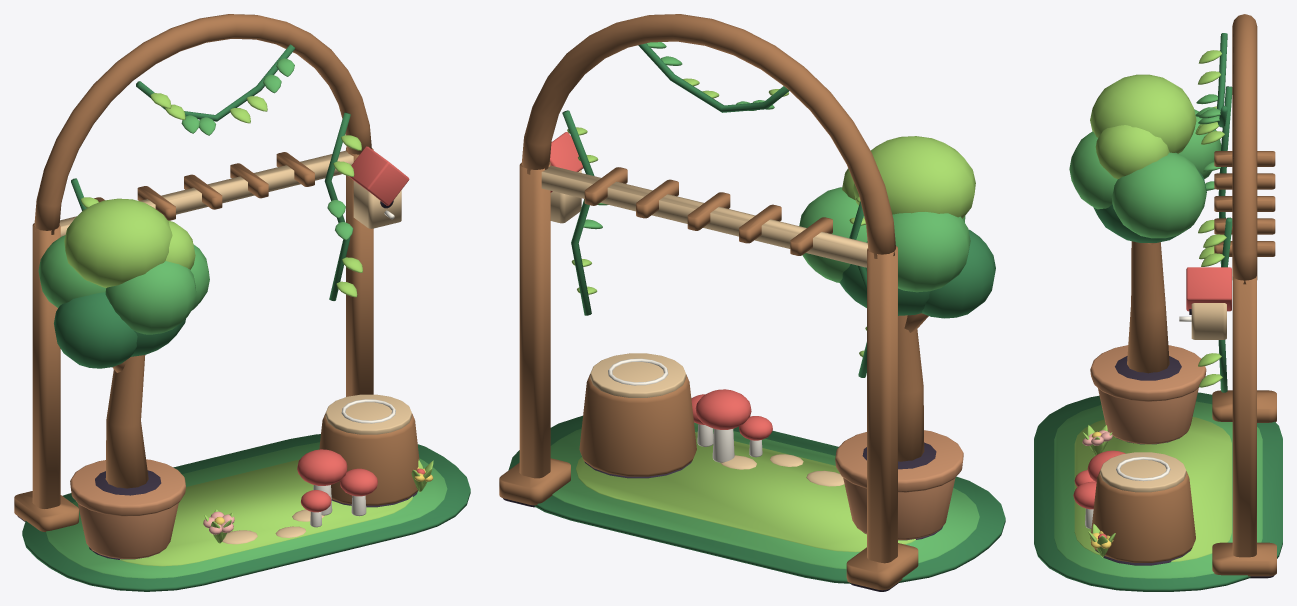
The model's file is forest.glb.
3 views of the same model, side by side, from view 1: azimuth 30°, elevation 25°; view 2: azimuth 150°, elevation 25°; view 3: azimuth 270°, elevation 25° (orthographic). The views are drawn at different scales.
Visible parts, largest first — view 1: ThemeForest_WoodPergolaAndStump, ThemeForest_GrassGreenCrownAndRug, ThemeForest_DeepGreenShadeAndVines, ThemeForest_LeafGreenFoliage, ThemeForest_WoodLightBirdhouse, ThemeForest_TerracottaPlanter, ThemeForest_CoralMushroomsAndRoof, ThemeForest_CreamMushroomStems, ThemeForest_SlatePads; view 2: ThemeForest_WoodPergolaAndStump, ThemeForest_GrassGreenCrownAndRug, ThemeForest_LeafGreenFoliage, ThemeForest_DeepGreenShadeAndVines, ThemeForest_WoodLightBirdhouse, ThemeForest_TerracottaPlanter, ThemeForest_CoralMushroomsAndRoof, ThemeForest_CreamMushroomStems, ThemeForest_SlatePads; view 3: ThemeForest_WoodPergolaAndStump, ThemeForest_GrassGreenCrownAndRug, ThemeForest_LeafGreenFoliage, ThemeForest_DeepGreenShadeAndVines, ThemeForest_TerracottaPlanter, ThemeForest_WoodLightBirdhouse, ThemeForest_CoralMushroomsAndRoof, ThemeForest_SlatePads, ThemeForest_CreamMushroomStems.
Part boxes in pixels (left/top/right/bottom): ThemeForest_WoodPergolaAndStump: left=14, top=14, right=419, bottom=531; ThemeForest_GrassGreenCrownAndRug: left=64, top=93, right=433, bottom=566; ThemeForest_DeepGreenShadeAndVines: left=22, top=44, right=470, bottom=591; ThemeForest_LeafGreenFoliage: left=38, top=58, right=447, bottom=578; ThemeForest_WoodLightBirdhouse: left=59, top=150, right=411, bottom=544; ThemeForest_TerracottaPlanter: left=70, top=459, right=185, bottom=558; ThemeForest_CoralMushroomsAndRoof: left=297, top=146, right=425, bottom=512; ThemeForest_CreamMushroomStems: left=310, top=210, right=395, bottom=527; ThemeForest_SlatePads: left=17, top=200, right=417, bottom=559; ThemeForest_WoodPergolaAndStump: left=499, top=14, right=928, bottom=590; ThemeForest_GrassGreenCrownAndRug: left=567, top=78, right=975, bottom=552; ThemeForest_LeafGreenFoliage: left=550, top=42, right=979, bottom=569; ThemeForest_DeepGreenShadeAndVines: left=508, top=43, right=1005, bottom=583; ThemeForest_WoodLightBirdhouse: left=541, top=165, right=867, bottom=486; ThemeForest_TerracottaPlanter: left=835, top=430, right=963, bottom=539; ThemeForest_CoralMushroomsAndRoof: left=550, top=132, right=772, bottom=440; ThemeForest_CreamMushroomStems: left=608, top=358, right=762, bottom=462; ThemeForest_SlatePads: left=503, top=442, right=942, bottom=591; ThemeForest_WoodPergolaAndStump: left=1091, top=14, right=1276, bottom=576; ThemeForest_GrassGreenCrownAndRug: left=1074, top=50, right=1231, bottom=561; ThemeForest_LeafGreenFoliage: left=1054, top=94, right=1262, bottom=578; ThemeForest_DeepGreenShadeAndVines: left=1034, top=33, right=1282, bottom=591; ThemeForest_TerracottaPlanter: left=1090, top=345, right=1206, bottom=444; ThemeForest_WoodLightBirdhouse: left=1100, top=303, right=1226, bottom=492; ThemeForest_CoralMushroomsAndRoof: left=1073, top=267, right=1231, bottom=538; ThemeForest_SlatePads: left=1095, top=309, right=1274, bottom=578; ThemeForest_CreamMushroomStems: left=1085, top=316, right=1191, bottom=528.
Size of the model in its own units: 1.84 by 2.01 by 0.98.
